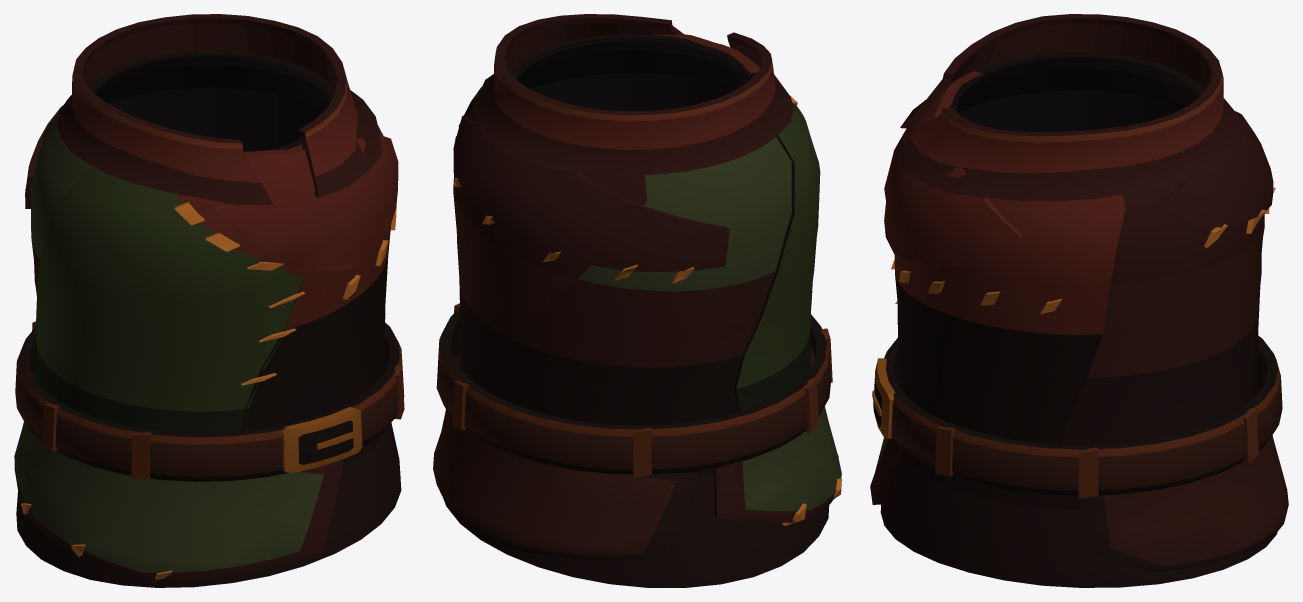
File: PatchworkRogueJerkin.fbx
The picture shows the model from 3 angles, left to right: view 1: azimuth 30°, elevation 25°; view 2: azimuth 150°, elevation 25°; view 3: azimuth 270°, elevation 25°; orthographic projection. The views are drawn at different scales.
Visible parts, largest first — view 1: PatchworkJerkin; view 2: PatchworkJerkin; view 3: PatchworkJerkin.
Part boxes in pixels (<box>): PatchworkJerkin: <box>14,14,404,587</box>; PatchworkJerkin: <box>433,14,841,587</box>; PatchworkJerkin: <box>870,14,1288,587</box>.
Size of the model in its own units: 0.3369 by 0.4142 by 0.3378.
2 materials, 2 textured.
